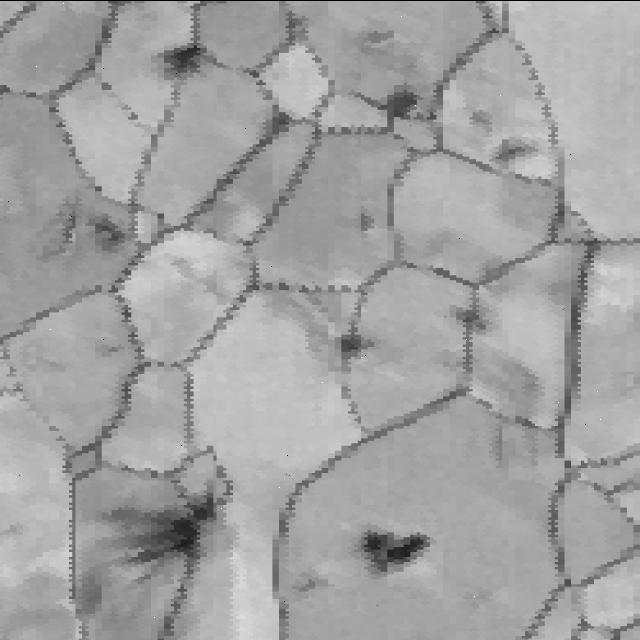good_void: (103, 488, 239, 588), (38, 191, 134, 258), (356, 524, 433, 575), (168, 35, 213, 83), (347, 24, 405, 61), (331, 328, 381, 370), (341, 202, 385, 245), (491, 134, 539, 170), (385, 75, 420, 124), (451, 303, 501, 336), (91, 338, 132, 369), (288, 569, 333, 597), (467, 110, 498, 140)
